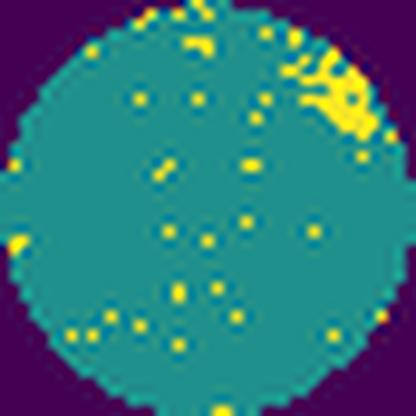Edge-Loc: (284, 42, 380, 142)
